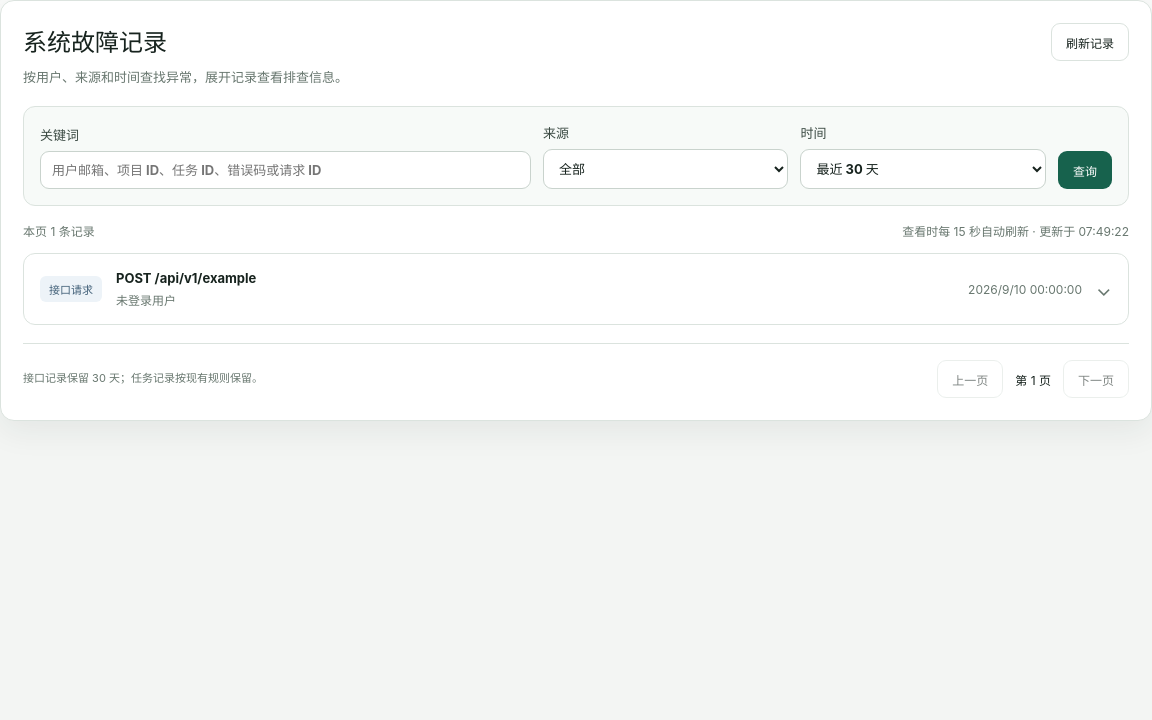
Test: keeps diagnostic codes in expandable details and does not invent job codes for API failures
This screenshot has width=1152, height=720.
Expected: the text "request-456" is not shown
Click the heading "POST /api/v1/example".
click(71, 289)  # box [40,270,1112,308]
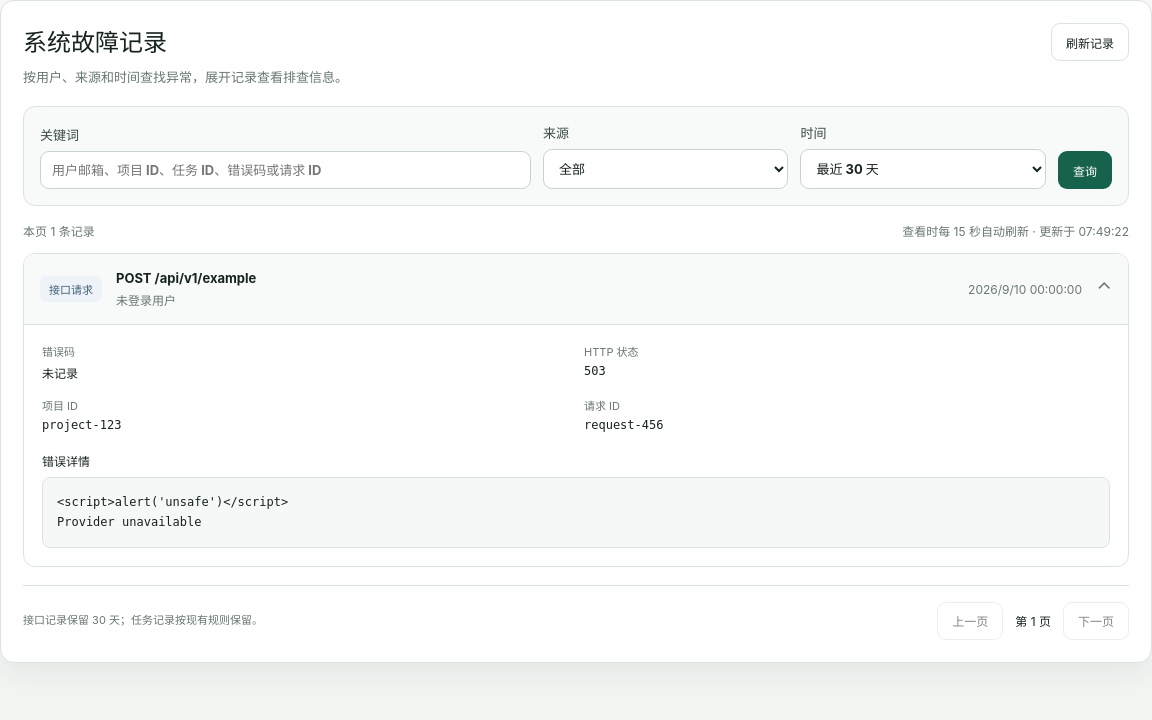
Result: the text "request-456" is shown at [584,418,664,432]
Result: the text "503" is shown at [584,364,606,378]
Result: the text "未记录" is shown at [42,367,78,381]
